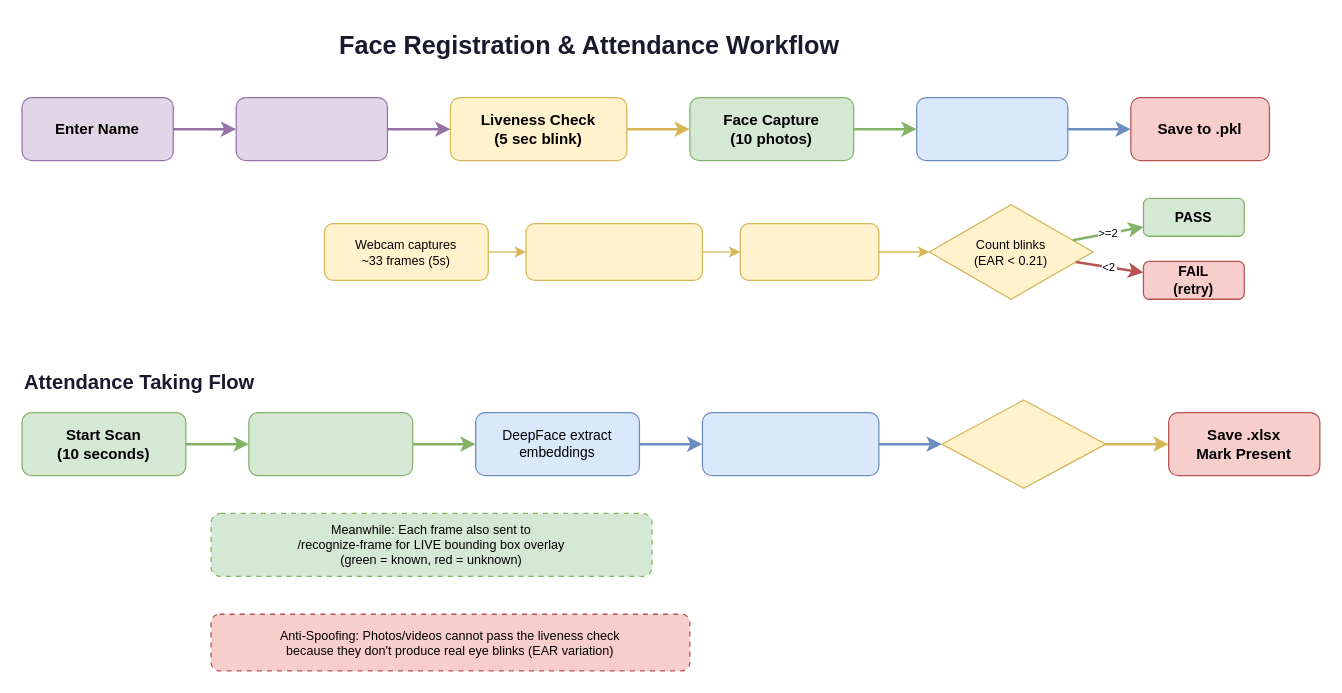
This 1342x693 diagram has some shape labels left out. The centre of each missing label's shape, as x and y in pixels:
Capture frame every 900ms: the point at 330,443
Compute EAR per frame: the point at 809,251
Cosine similarity vs registered faces: the point at 790,443
DeepFace SFace Embed: the point at 991,128
Enter UID (10 digits): the point at 311,128
Majority vote per person: the point at 1023,443
MediaPipe extracts 478 face landmarks: the point at 613,251
